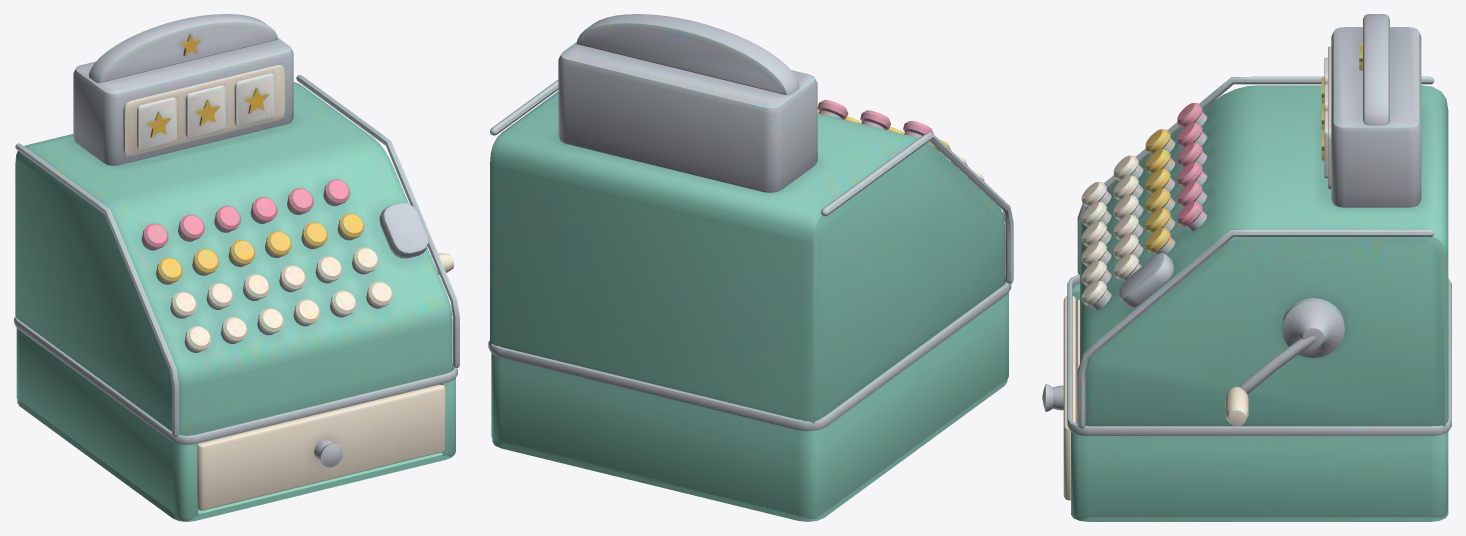
The model's file is cash-register.glb.
3 renders of one model, left to right at view 1: azimuth 30°, elevation 25°; view 2: azimuth 150°, elevation 25°; view 3: azimuth 270°, elevation 25°, orthographic. The views are drawn at different scales.
Visible parts, largest first — view 1: cash-register_body, cash-register_drawer; view 2: cash-register_body; view 3: cash-register_body, cash-register_drawer.
Part boxes in pixels (x1,y1,x2,y2): cash-register_body: (14, 14, 459, 521); cash-register_drawer: (197, 384, 445, 510); cash-register_body: (488, 14, 1013, 521); cash-register_body: (1067, 14, 1451, 521); cash-register_drawer: (1042, 296, 1079, 500).
Size of the model in its own units: 0.4995 by 0.502 by 0.456.
Materials: 2 (2 with a texture image).
